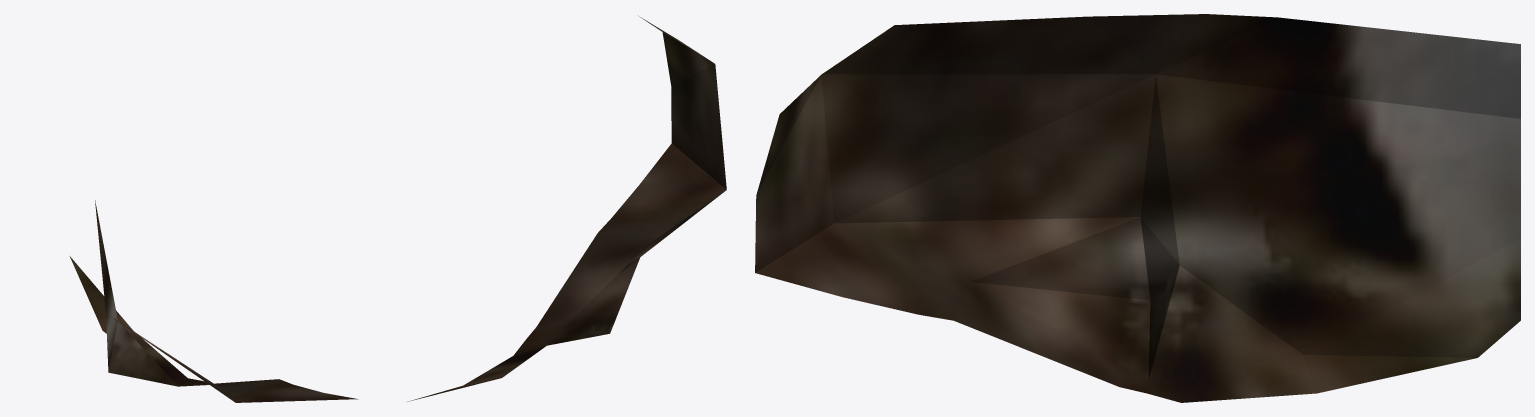
The picture shows the model from 3 angles, left to right: view 1: azimuth 30°, elevation 25°; view 2: azimuth 150°, elevation 25°; view 3: azimuth 270°, elevation 25°; orthographic projection. The views are drawn at different scales.
Bounding box in the file's own units: 0.0843 × 0.2122 × 0.4334.
1 material, 1 textured.
